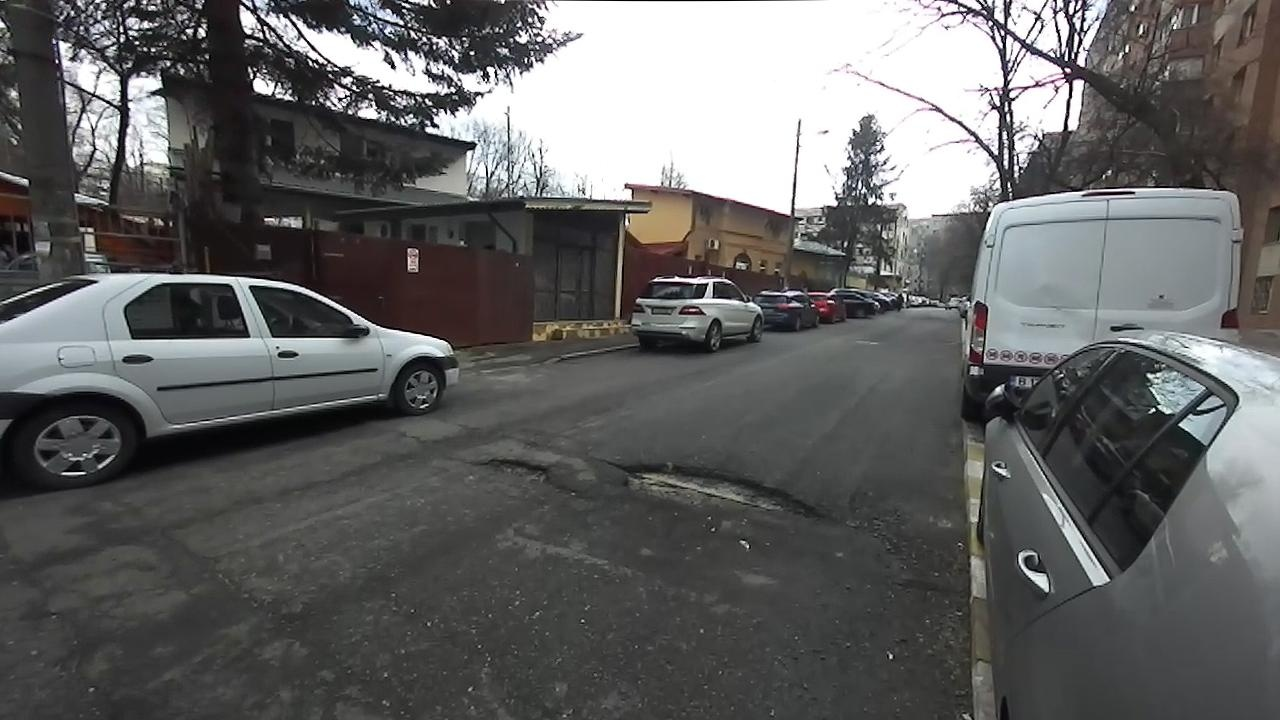pothole: (597, 456, 835, 526), (473, 453, 573, 493)
